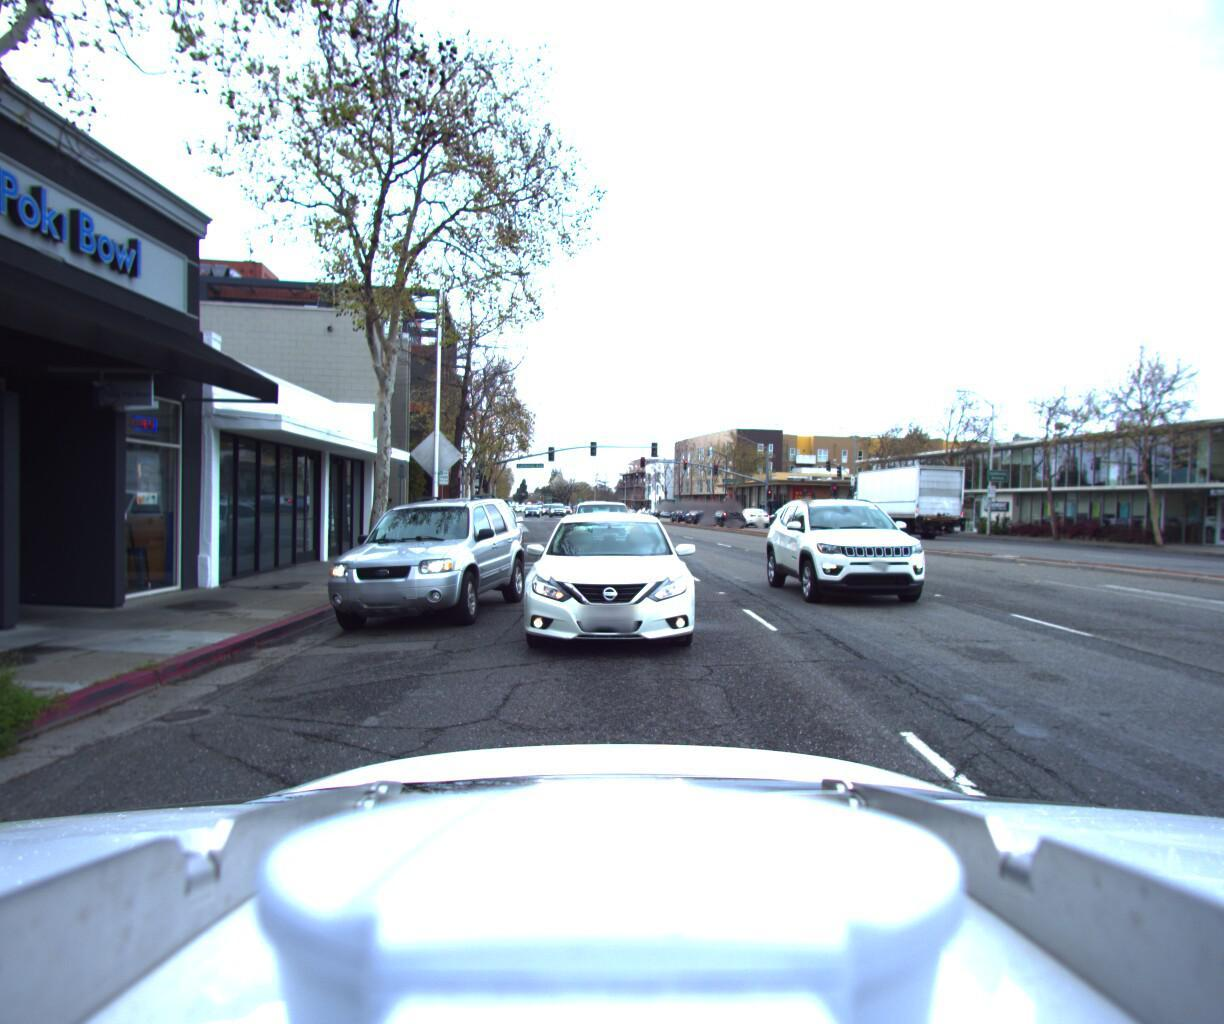car: (310, 493, 531, 644), (509, 509, 709, 665), (759, 493, 958, 621), (560, 504, 649, 570), (451, 503, 525, 569), (702, 511, 747, 536), (731, 513, 769, 534), (669, 507, 702, 530), (683, 510, 720, 530)
truck: (827, 466, 969, 551)
